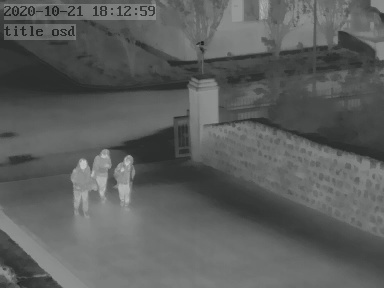person: (71, 158, 95, 222), (114, 154, 135, 210), (94, 148, 114, 206)
